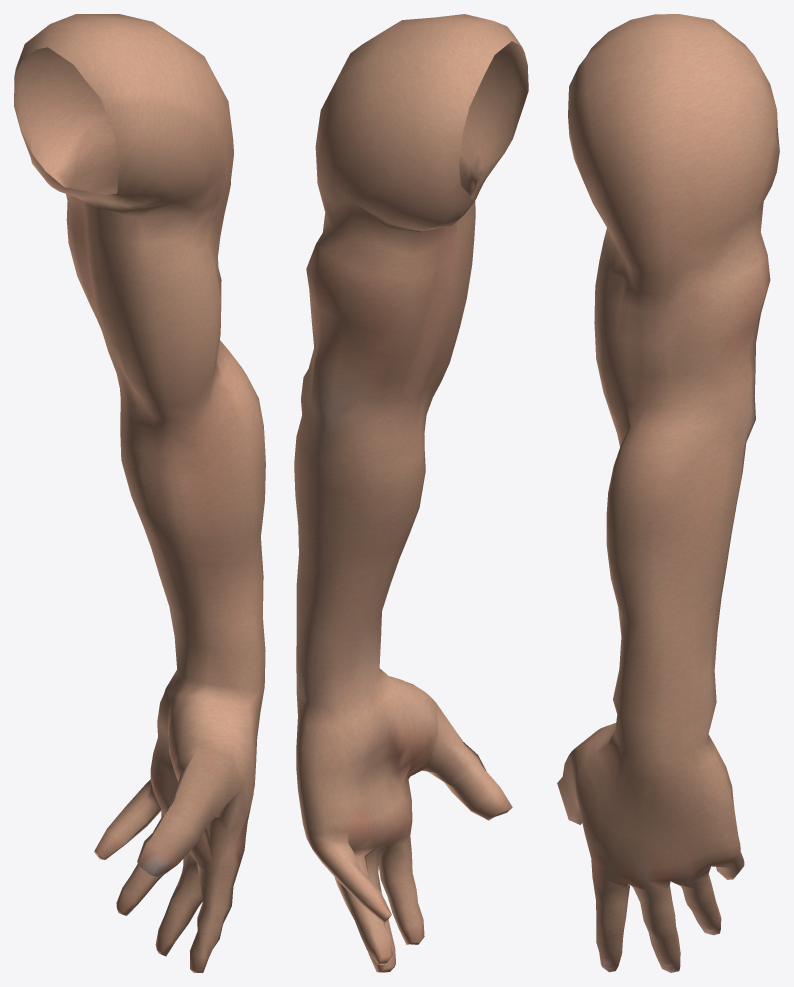
Rendered from anatomy-male-arm-v1.glb.
The picture shows the model from 3 angles, left to right: view 1: azimuth 30°, elevation 25°; view 2: azimuth 150°, elevation 25°; view 3: azimuth 270°, elevation 25°; orthographic projection. The views are drawn at different scales.
Visible parts, largest first — view 1: g_arm_LO_meshId0_name; view 2: g_arm_LO_meshId0_name; view 3: g_arm_LO_meshId0_name.
Part boxes in pixels (left/top/right/bottom): g_arm_LO_meshId0_name: left=14, top=14, right=265, bottom=972; g_arm_LO_meshId0_name: left=294, top=14, right=528, bottom=972; g_arm_LO_meshId0_name: left=557, top=14, right=779, bottom=972.
Bounding box in the file's own units: 0.4441 × 2 × 0.4397.
Materials: 1 (1 with a texture image).
